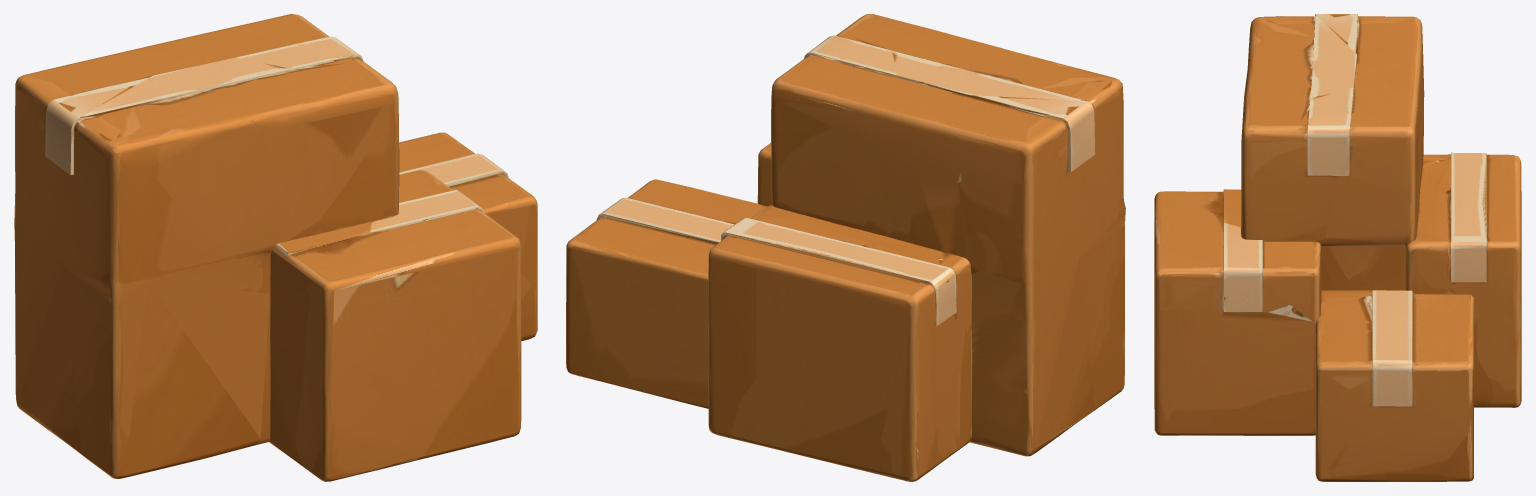
Rendered from parcels.glb.
3 views of the same model, side by side, from view 1: azimuth 30°, elevation 25°; view 2: azimuth 150°, elevation 25°; view 3: azimuth 270°, elevation 25° (orthographic). The views are drawn at different scales.
Parts seen in each view (by area): view 1: parcels; view 2: parcels; view 3: parcels.
Part boxes in pixels (x1=…): parcels: x1=14, y1=14, x2=537, y2=481; parcels: x1=566, y1=14, x2=1125, y2=481; parcels: x1=1154, y1=14, x2=1521, y2=481.
Size of the model in its own units: 0.9998 by 0.6779 by 0.8.
Materials: 1 (1 with a texture image).
